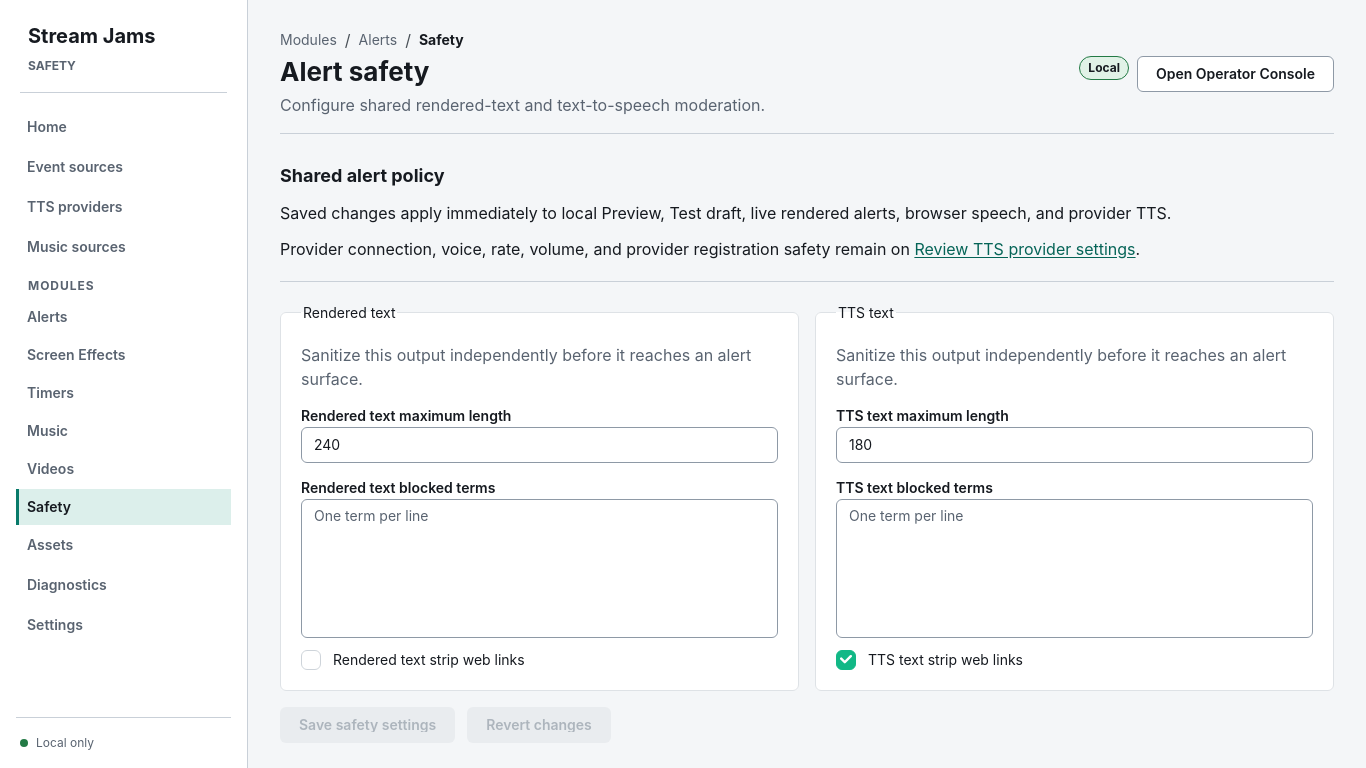
Scenario: ManagementApp › keeps the dirty-navigation dialog open with an actionable reference when alert safety persistence fails
The image size is (1366, 768).
Replace the text in the number field labelled "Rendered text maximum length" with "300" at x=540, y=444, box [301, 426, 778, 462]
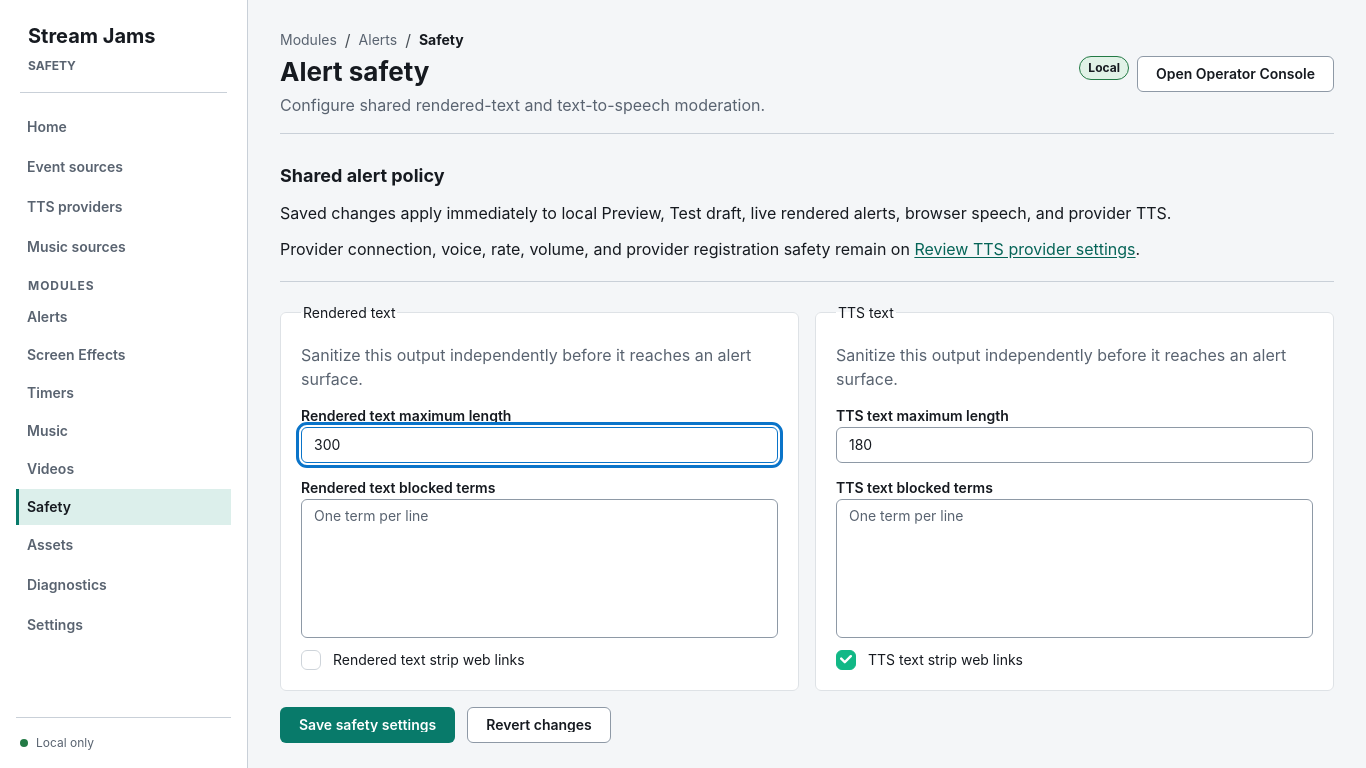
Click the link "Assets".
click(50, 544)  # box [27, 536, 73, 553]
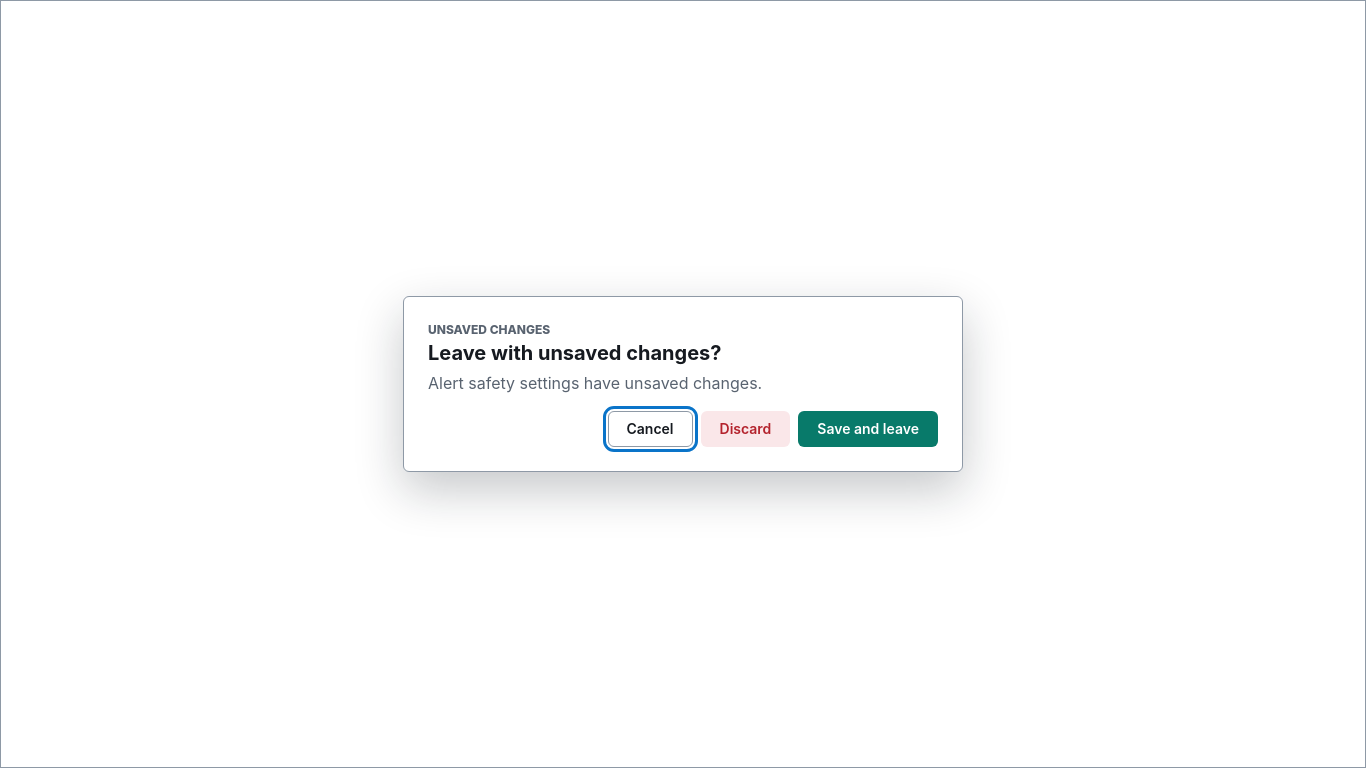
Click the button "Save and leave".
click(868, 429)  # box [798, 411, 938, 447]
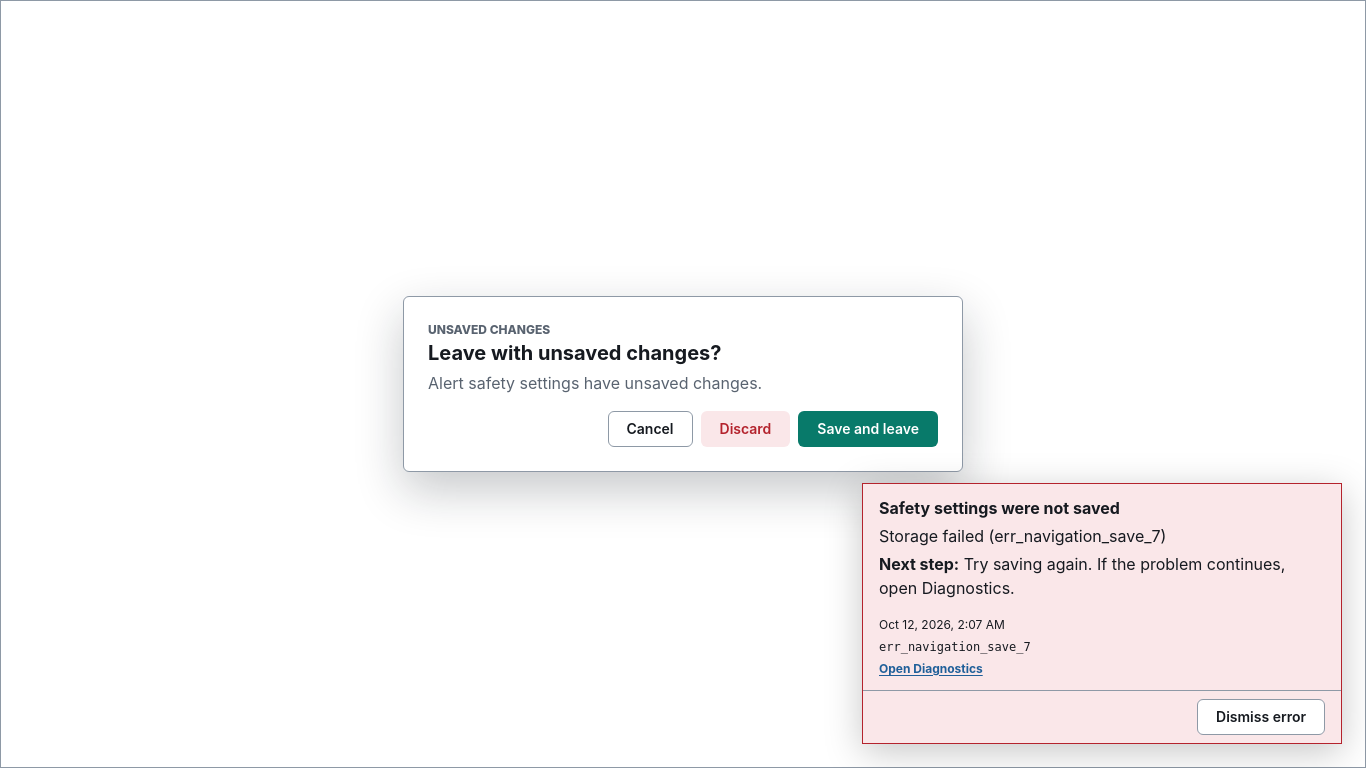
Expected: the message shows "Safety settings were not saved", [879, 498, 1120, 518]
Expected: the message shows "Try saving again", [879, 554, 1285, 598]
Expected: the message shows "err_navigation_save_7", [879, 640, 1031, 654]
